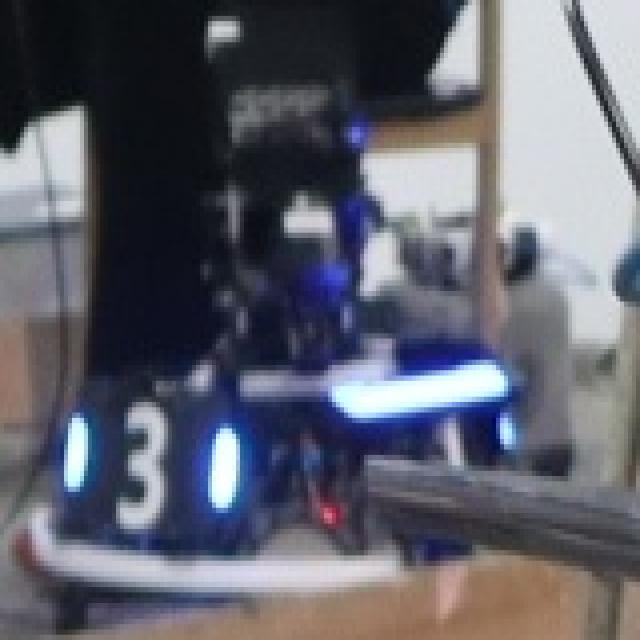B3: (60, 392, 236, 534)
